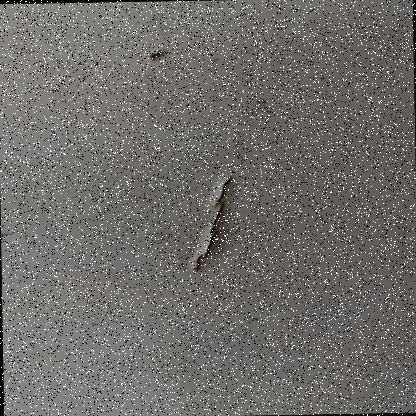Crack: (156, 160, 258, 284), (125, 42, 180, 75)
